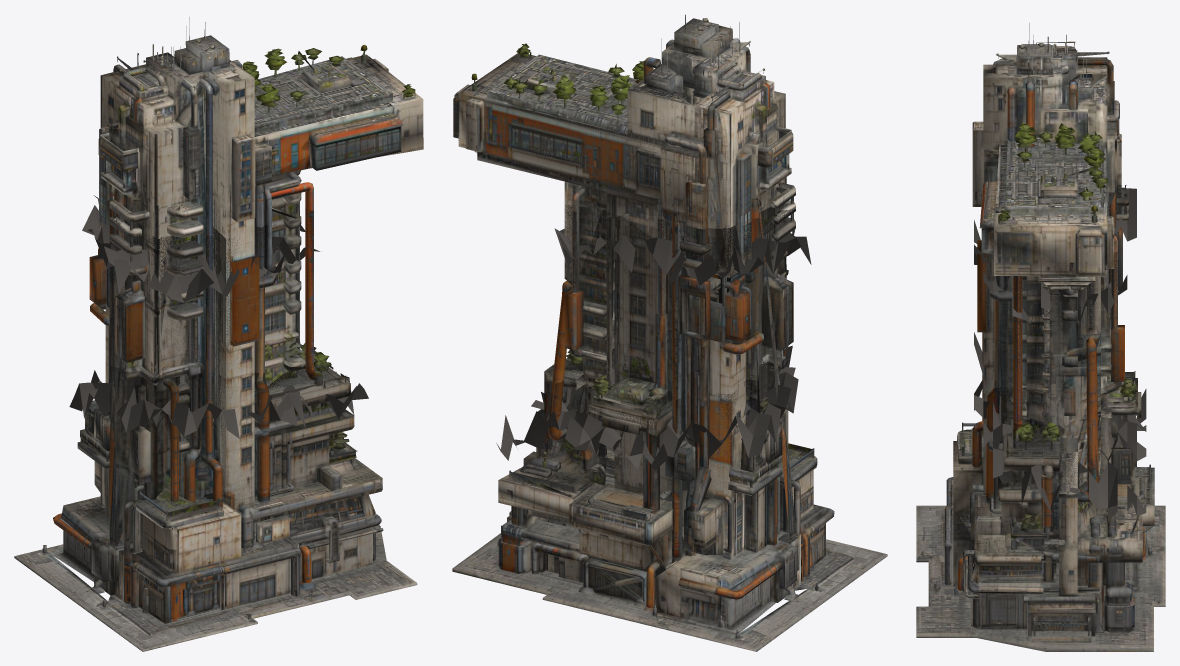
The model's file is toa_cao_1.glb.
3 views of the same model, side by side, from view 1: azimuth 30°, elevation 25°; view 2: azimuth 150°, elevation 25°; view 3: azimuth 270°, elevation 25° (orthographic). The views are drawn at different scales.
Visible parts, largest first — view 1: do_1, nguyen, do_2; view 2: do_1, nguyen, do_2; view 3: do_1, nguyen, do_2.
Part boxes in pixels (bbox=[...]): do_1: bbox=[14, 350, 417, 651]; nguyen: bbox=[98, 17, 423, 543]; do_2: bbox=[82, 193, 330, 544]; do_1: bbox=[452, 345, 887, 651]; nguyen: bbox=[453, 14, 795, 537]; do_2: bbox=[544, 205, 811, 551]; do_1: bbox=[916, 332, 1165, 651]; nguyen: bbox=[972, 23, 1121, 494]; do_2: bbox=[974, 185, 1137, 532].
Size of the model in its own units: 34.42 by 55 by 23.24.
2 materials, 1 textured.
